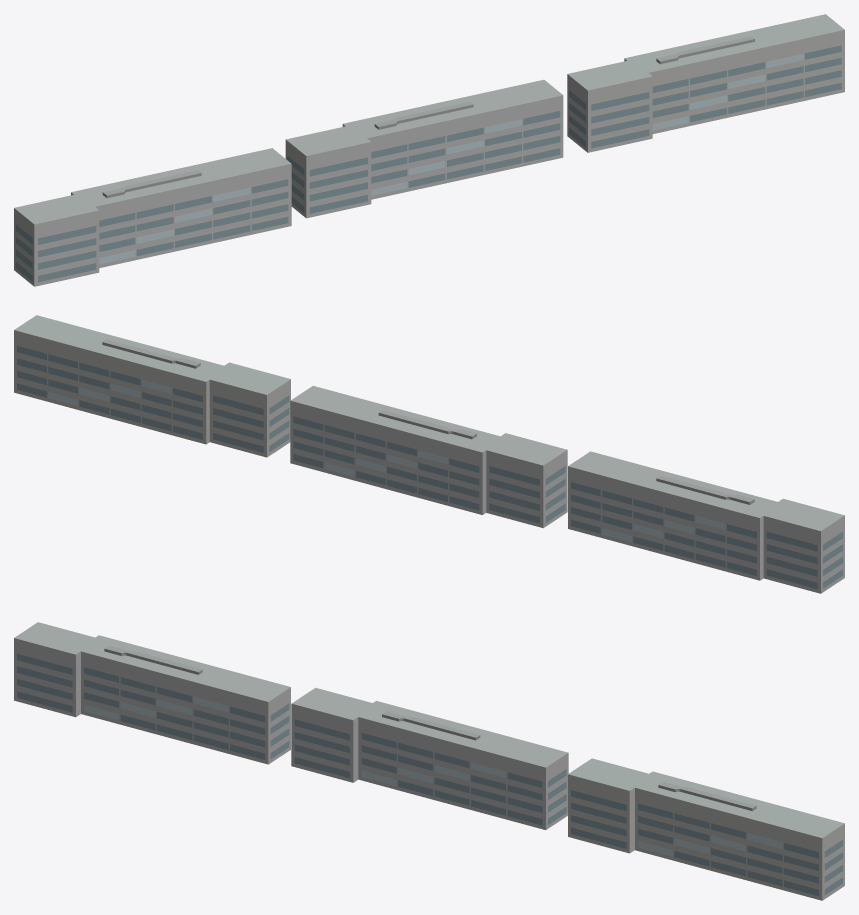
File: residual-godeok-ipark-extension-apt-a13408003.glb
The picture shows the model from 3 angles, top to bottom: view 1: azimuth 30°, elevation 25°; view 2: azimuth 150°, elevation 25°; view 3: azimuth 330°, elevation 25°; orthographic projection.
Parts seen in each view (by area): view 1: residual-godeok-ipark-extension-apt-a13408003; view 2: residual-godeok-ipark-extension-apt-a13408003; view 3: residual-godeok-ipark-extension-apt-a13408003.
Part boxes in pixels (<box>): residual-godeok-ipark-extension-apt-a13408003: <box>14,14,844,286</box>; residual-godeok-ipark-extension-apt-a13408003: <box>14,315,844,593</box>; residual-godeok-ipark-extension-apt-a13408003: <box>14,622,844,900</box>.
Bounding box in the file's own units: 207 × 15.94 × 12.99.
